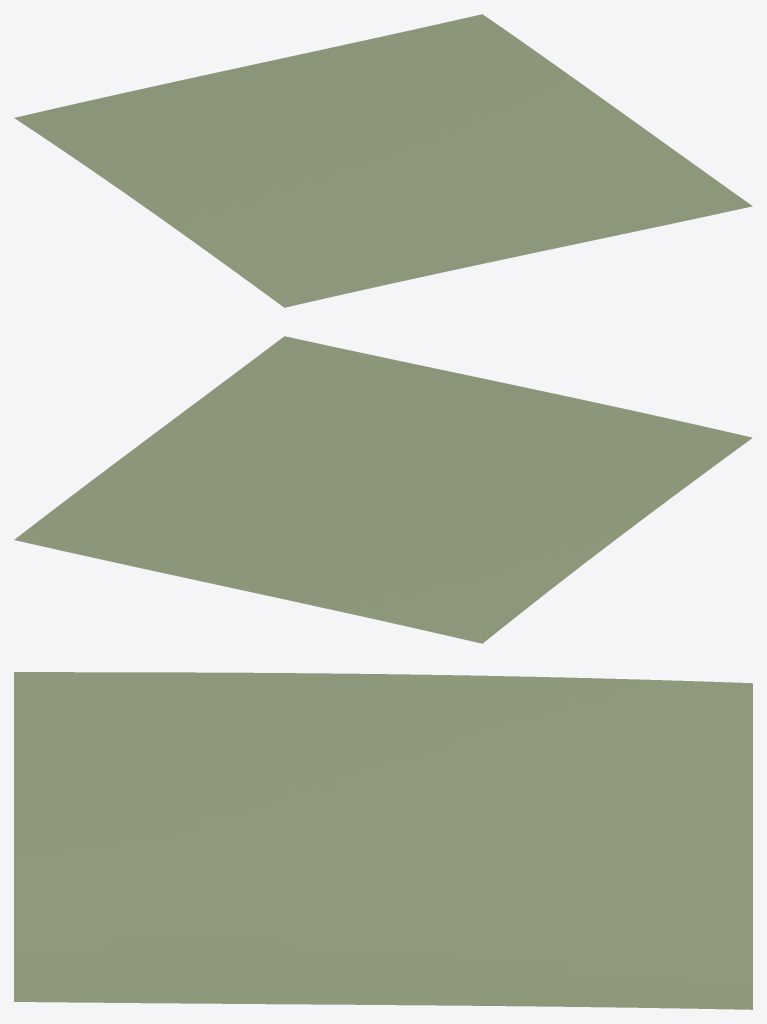
Rendered from expanse-31-1.glb.
3 views of the same model, one above another, from view 1: azimuth 30°, elevation 25°; view 2: azimuth 150°, elevation 25°; view 3: azimuth 270°, elevation 25° (orthographic). The views are drawn at different scales.
Visible parts, largest first — view 1: expanse-31-1; view 2: expanse-31-1; view 3: expanse-31-1.
Boxes of the visible parts, x1=… form: expanse-31-1: x1=14, y1=14, x2=752, y2=307; expanse-31-1: x1=14, y1=336, x2=752, y2=643; expanse-31-1: x1=14, y1=672, x2=752, y2=1009.
Bounding box in the file's own units: 256 × 9.73 × 256.
